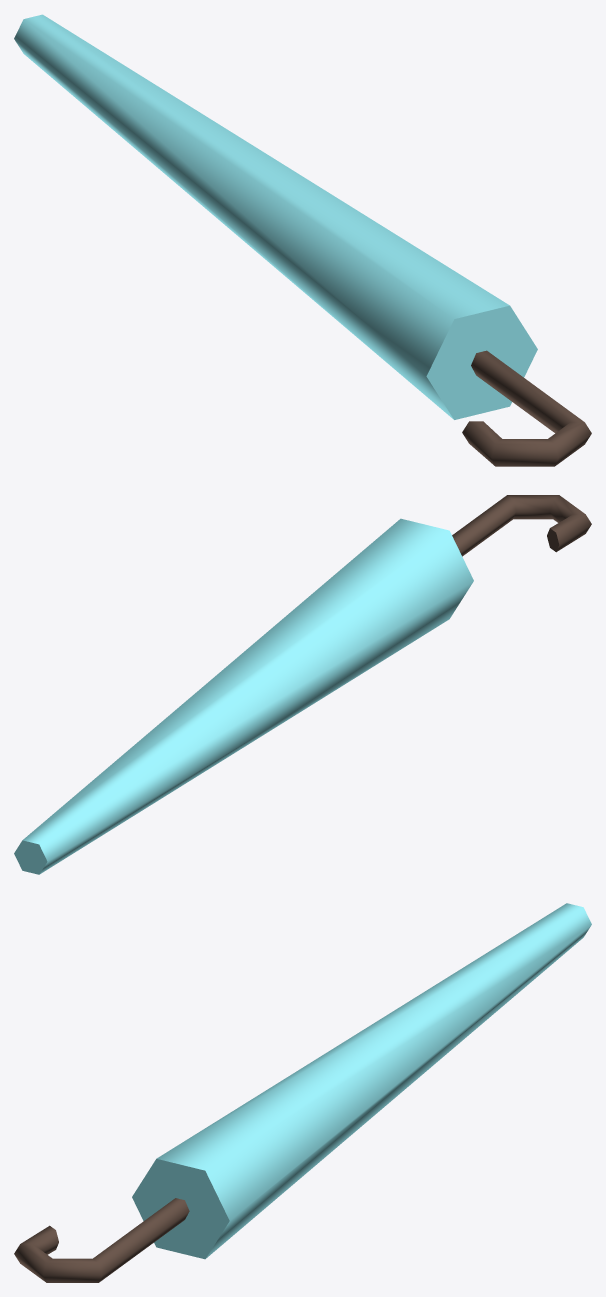
The model's file is Umbrella.FBX.
The picture shows the model from 3 angles, top to bottom: view 1: azimuth 30°, elevation 25°; view 2: azimuth 150°, elevation 25°; view 3: azimuth 330°, elevation 25°; orthographic projection. The views are drawn at different scales.
Visible parts, largest first — view 1: Umbrella; view 2: Umbrella; view 3: Umbrella.
Part boxes in pixels (left/top/right/bottom): Umbrella: left=14, top=14, right=591, bottom=466; Umbrella: left=14, top=495, right=591, bottom=874; Umbrella: left=14, top=903, right=591, bottom=1282.
Bounding box in the file's own units: 6.16 × 4.08 × 41.35.
Materials: 1 (1 with a texture image).
